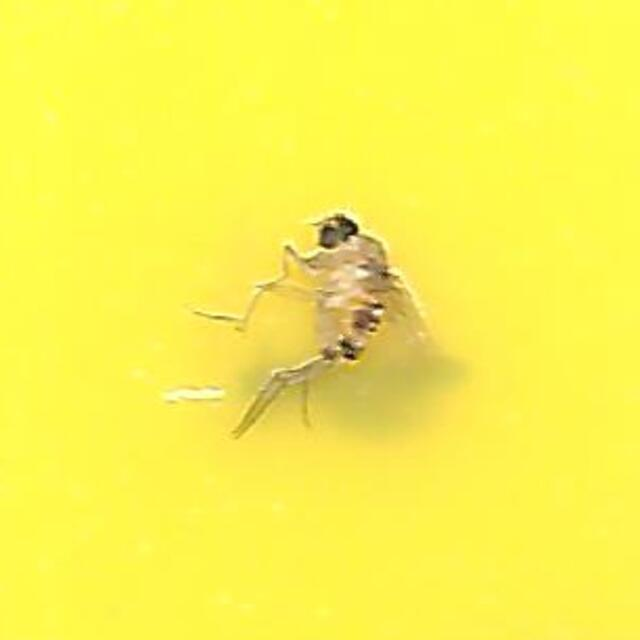Nematocera: (209, 201, 431, 439)
